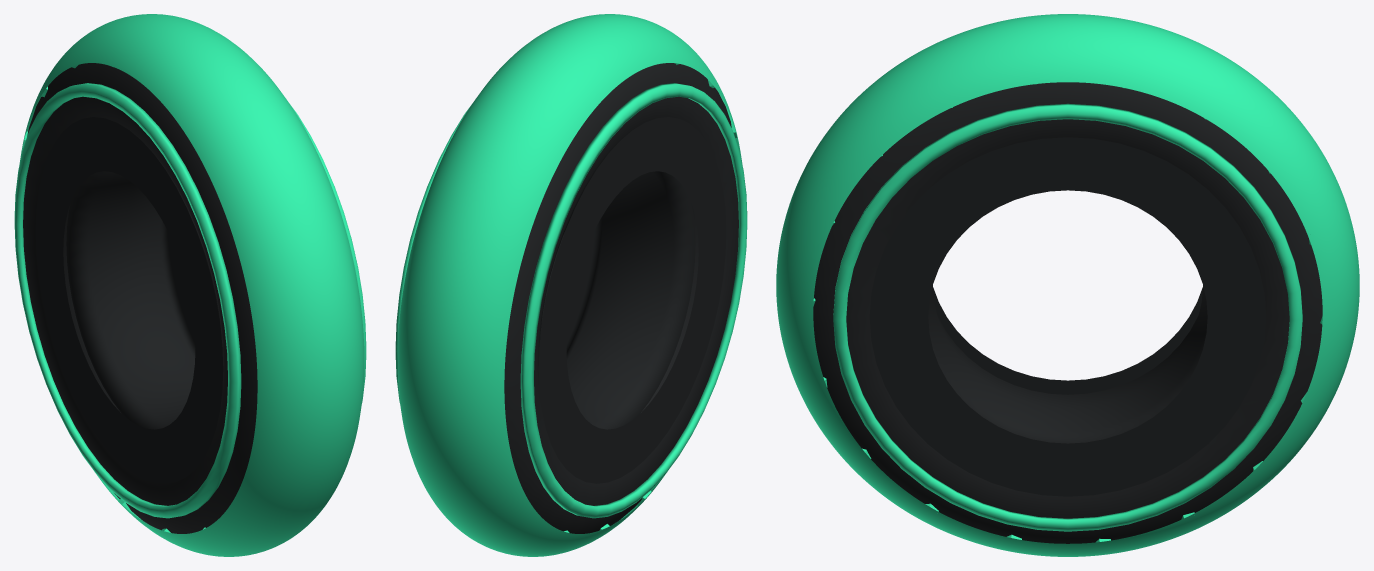
Rendered from mint-wheel.obj.
3 views of the same model, side by side, from view 1: azimuth 30°, elevation 25°; view 2: azimuth 150°, elevation 25°; view 3: azimuth 270°, elevation 25° (orthographic). The views are drawn at different scales.
Parts seen in each view (by area): view 1: mint-wheel_phase_independent_tread_motion_band, mint-wheel_recessed_hub, mint-wheel_carcass, mint-wheel_mint_side_rings; view 2: mint-wheel_phase_independent_tread_motion_band, mint-wheel_recessed_hub, mint-wheel_carcass, mint-wheel_mint_side_rings; view 3: mint-wheel_recessed_hub, mint-wheel_phase_independent_tread_motion_band, mint-wheel_carcass, mint-wheel_mint_side_rings.
Boxes of the visible parts, <box> form: mint-wheel_phase_independent_tread_motion_band: <box>19,14,364,556</box>; mint-wheel_recessed_hub: <box>35,117,223,483</box>; mint-wheel_carcass: <box>23,63,257,533</box>; mint-wheel_mint_side_rings: <box>14,83,366,518</box>; mint-wheel_phase_independent_tread_motion_band: <box>397,14,742,556</box>; mint-wheel_recessed_hub: <box>538,117,726,483</box>; mint-wheel_carcass: <box>504,63,738,533</box>; mint-wheel_mint_side_rings: <box>395,83,747,518</box>; mint-wheel_recessed_hub: <box>869,137,1266,496</box>; mint-wheel_phase_independent_tread_motion_band: <box>776,14,1359,556</box>; mint-wheel_carcass: <box>813,82,1322,543</box>; mint-wheel_mint_side_rings: <box>833,103,1302,531</box>.
Size of the model in its own units: 0.282 by 0.9944 by 0.9944.
